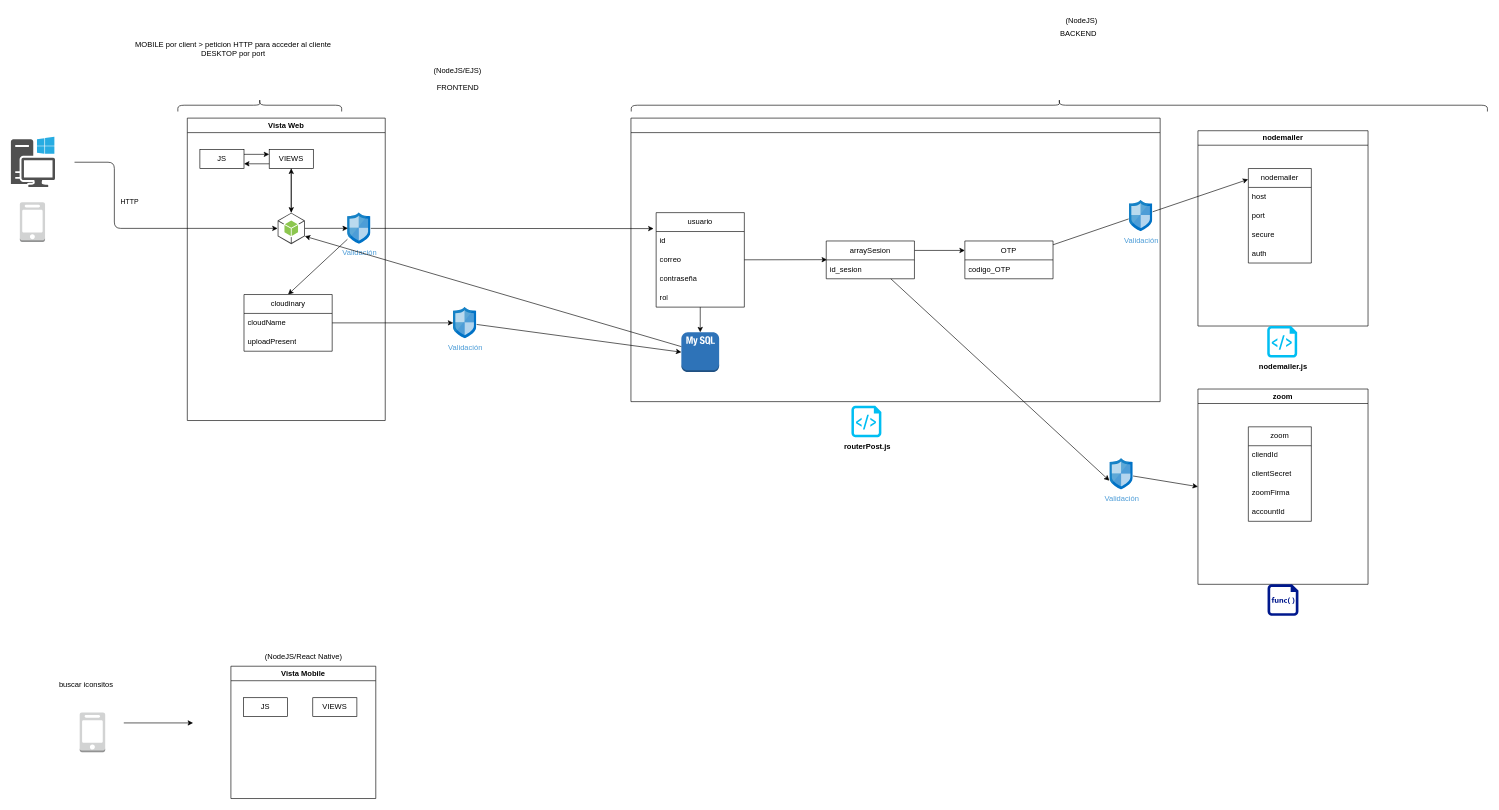
Image size: 1499x810. Some labels were removed from this diagram. The shapes that lost their labels are listed below. From the top down, each one's centre as x and y in pixels, then its label:
At pixel 291 228: "Escucha puerto 4000".
At pixel 1282 600: "app.post('/zoomPrueba')".
